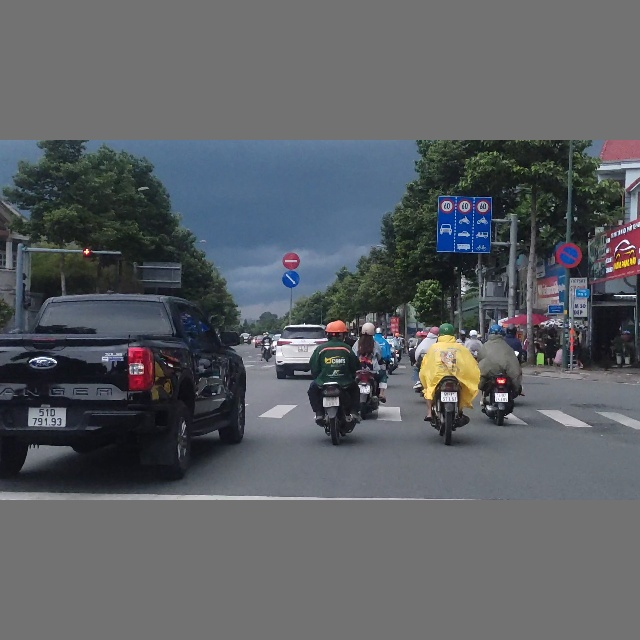P.102: (282, 252, 300, 270)
P.131a: (555, 242, 582, 269)
R.302a: (282, 270, 300, 288)
R.415a: (436, 196, 492, 253)
